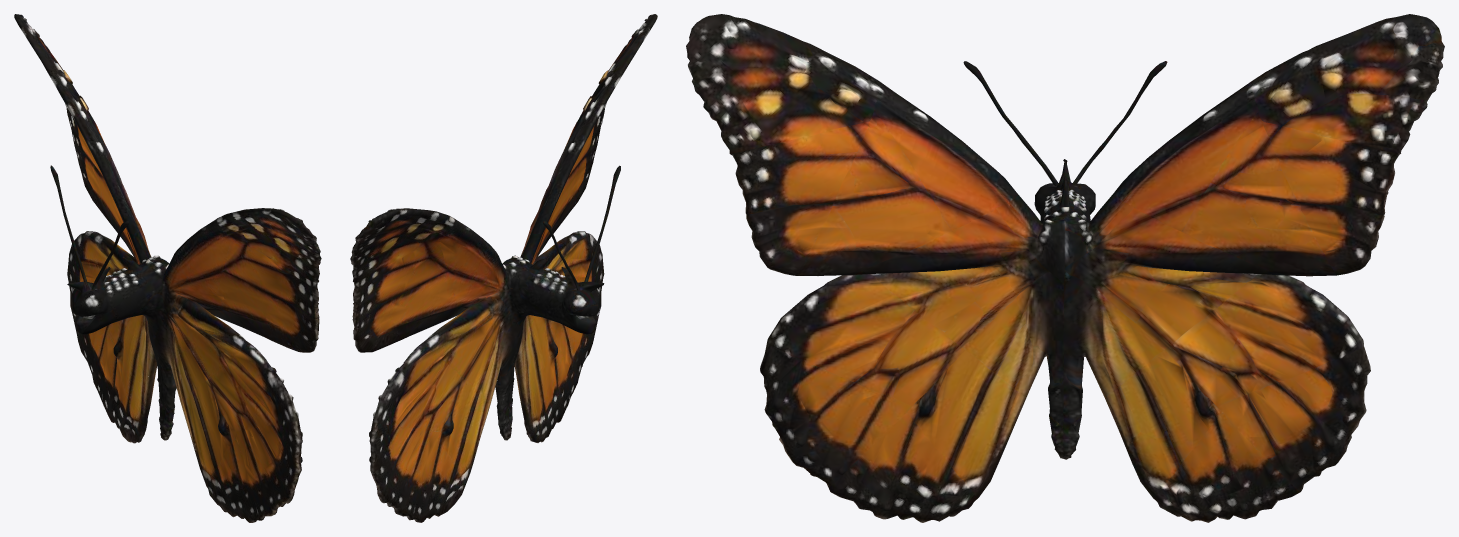
The model's file is butterfly.glb.
3 renders of one model, left to right at view 1: azimuth 30°, elevation 25°; view 2: azimuth 150°, elevation 25°; view 3: azimuth 270°, elevation 25°, orthographic. The views are drawn at different scales.
Visible parts, largest first — view 1: tripo_node_61b25177-bd49-4d0e-a443-21c4ad5efef0; view 2: tripo_node_61b25177-bd49-4d0e-a443-21c4ad5efef0; view 3: tripo_node_61b25177-bd49-4d0e-a443-21c4ad5efef0.
Part boxes in pixels (x1=…): tripo_node_61b25177-bd49-4d0e-a443-21c4ad5efef0: x1=14, y1=14, x2=321, y2=522; tripo_node_61b25177-bd49-4d0e-a443-21c4ad5efef0: x1=350, y1=14, x2=657, y2=522; tripo_node_61b25177-bd49-4d0e-a443-21c4ad5efef0: x1=686, y1=14, x2=1444, y2=522.
Size of the model in its own units: 0.2685 by 0.6964 by 0.9799.
Materials: 1 (1 with a texture image).
